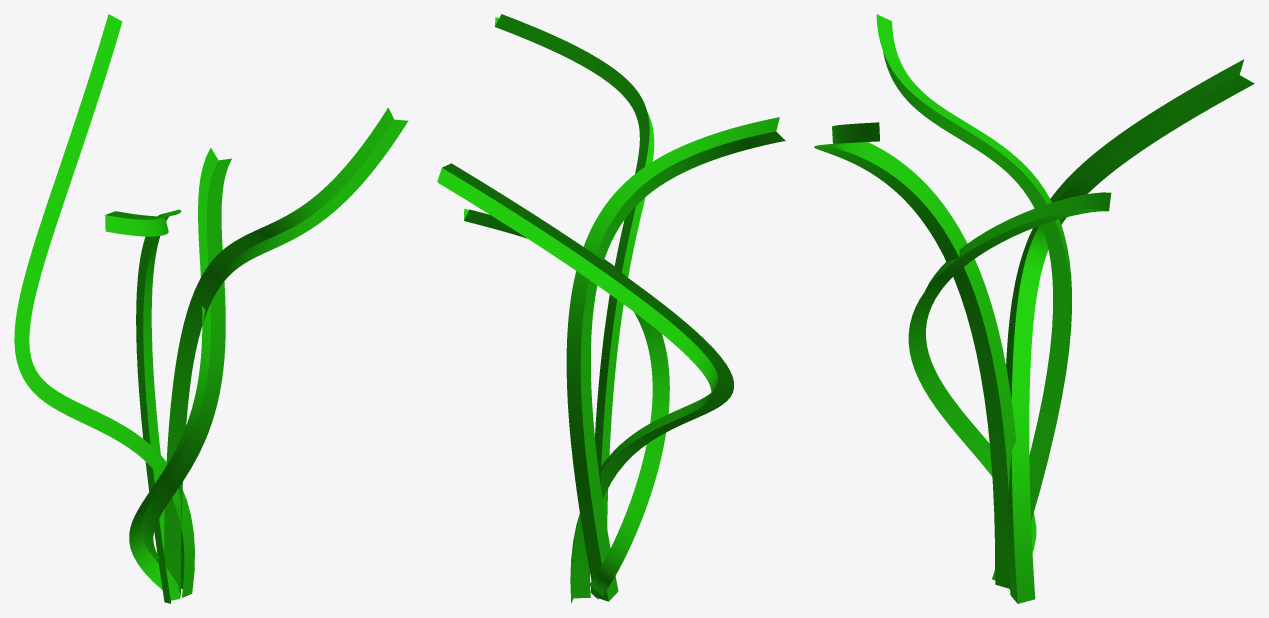
File: seaweed.fbx
3 views of the same model, side by side, from view 1: azimuth 30°, elevation 25°; view 2: azimuth 150°, elevation 25°; view 3: azimuth 270°, elevation 25° (orthographic). The views are drawn at different scales.
Parts seen in each view (by area): view 1: NurbsPath, NurbsPath.001; view 2: NurbsPath, NurbsPath.001; view 3: NurbsPath, NurbsPath.001.
Part boxes in pixels (x1=…): NurbsPath: x1=105, y1=107, x2=408, y2=603; NurbsPath.001: x1=14, y1=14, x2=194, y2=597; NurbsPath: x1=463, y1=14, x2=785, y2=601; NurbsPath.001: x1=437, y1=163, x2=733, y2=602; NurbsPath: x1=814, y1=14, x2=1111, y2=590; NurbsPath.001: x1=1006, y1=59, x2=1254, y2=603.
Size of the model in its own units: 298 by 455 by 327.
